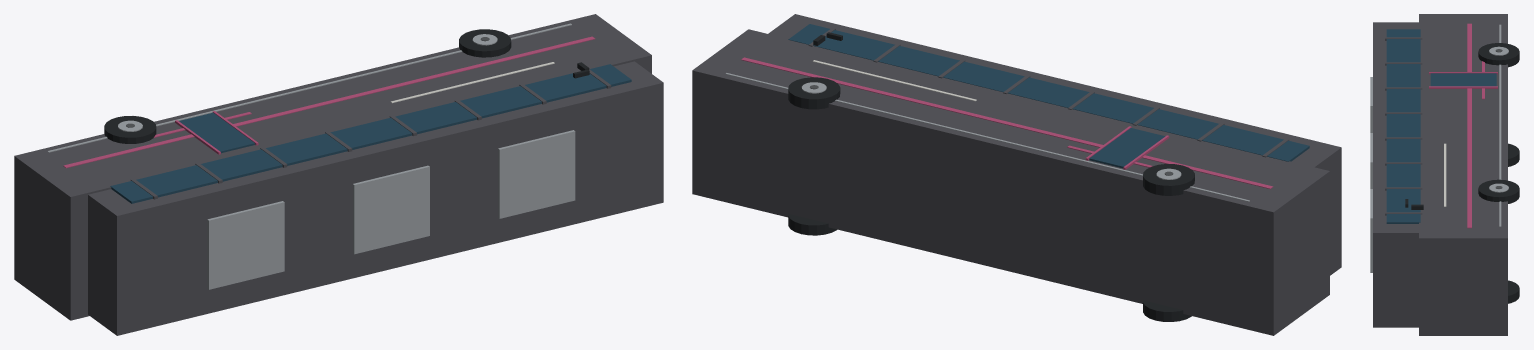
The model's file is RM_Bus_19.glb.
3 renders of one model, left to right at view 1: azimuth 30°, elevation 25°; view 2: azimuth 150°, elevation 25°; view 3: azimuth 270°, elevation 25°, orthographic. The views are drawn at different scales.
Visible parts, largest first — view 1: part_001, part_000, part_002, part_038, part_039, part_037, part_013, part_040, part_014, part_030, part_024; view 2: part_000, part_002, part_001, part_013, part_040, part_030, part_024, part_014, part_027, part_021; view 3: part_000, part_001, part_002, part_013, part_040, part_024, part_030, part_014, part_039, part_021, part_027, part_042 (+6 smaller).
Boxes of the visible parts, x1,y1,x2,y2 form: part_001: (88,61,663,335); part_000: (14,14,651,320); part_002: (110,64,631,203); part_038: (352,165,429,254); part_039: (498,130,575,218); part_037: (207,201,284,289); part_013: (63,36,595,168); part_040: (179,112,254,153); part_014: (47,23,571,152); part_030: (459,29,511,57); part_024: (104,116,156,143); part_000: (692,29,1329,335); part_002: (788,24,1309,161); part_001: (768,14,1341,275); part_013: (741,57,1273,189); part_040: (1089,128,1164,168); part_030: (788,77,840,109); part_024: (1143,164,1194,195); part_014: (725,73,1249,201); part_027: (788,214,837,235); part_021: (1143,300,1191,321); part_000: (1419,14,1507,335); part_001: (1373,22,1418,327); part_002: (1386,29,1420,223); part_013: (1467,23,1471,228); part_040: (1430,73,1496,86); part_024: (1478,43,1519,67); part_030: (1478,179,1519,203); part_014: (1499,24,1501,226); part_039: (1370,189,1372,272); part_021: (1508,143,1519,166); part_027: (1508,280,1519,303); part_042: (1429,86,1497,88).
Bounding box in the file's own units: 12.06 × 2.77 × 3.4.
